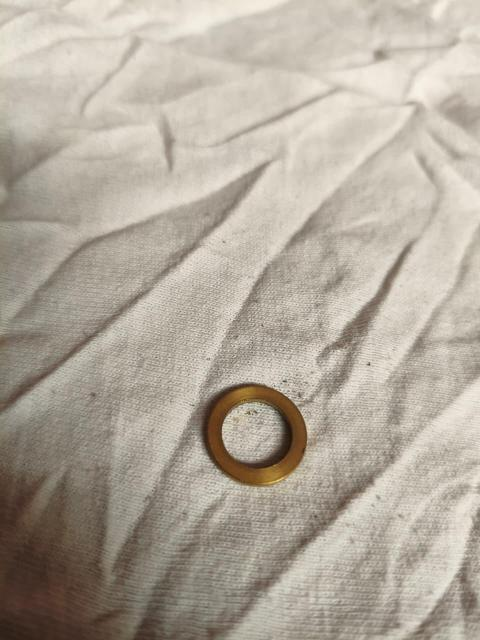Metal: (210, 382, 310, 487)
